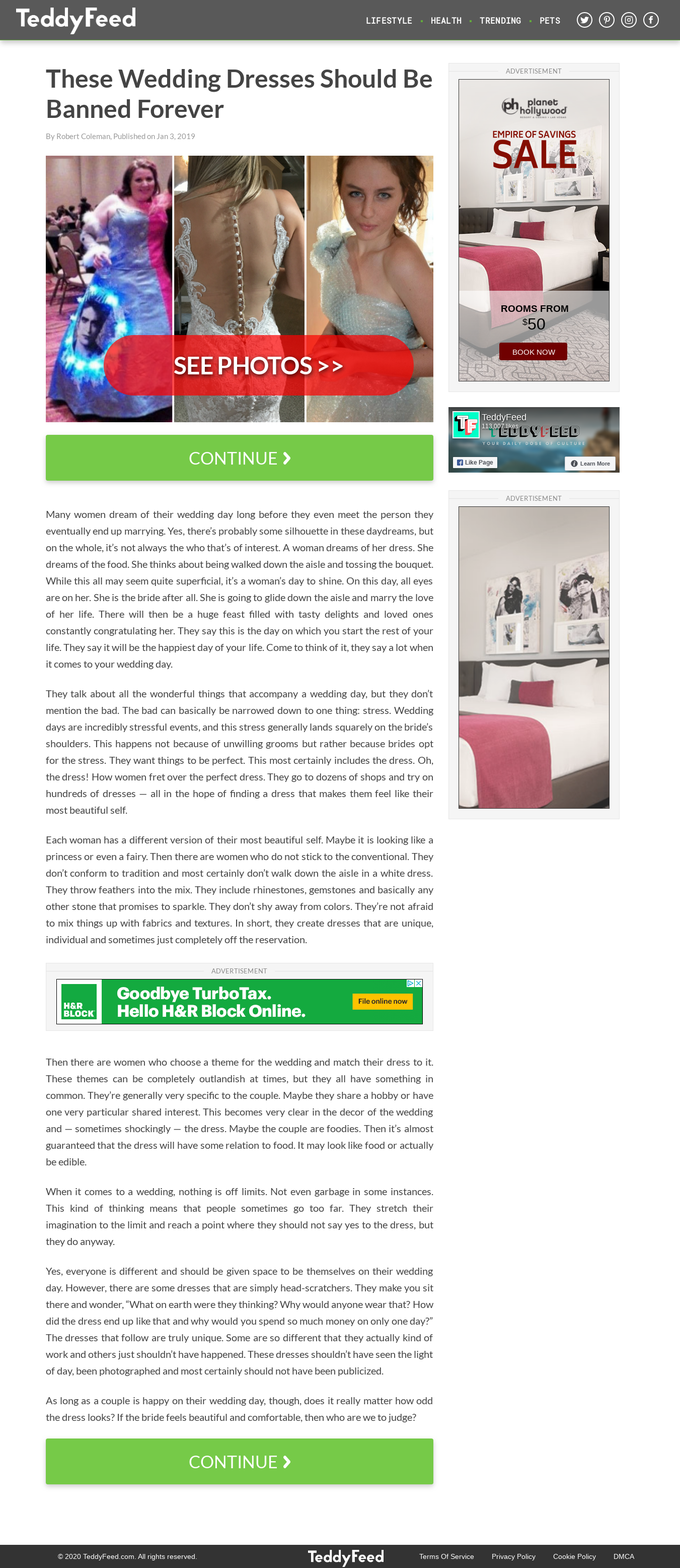fake_button: (35, 424, 451, 508), (96, 323, 428, 414), (36, 1433, 459, 1503), (342, 985, 422, 1018)
